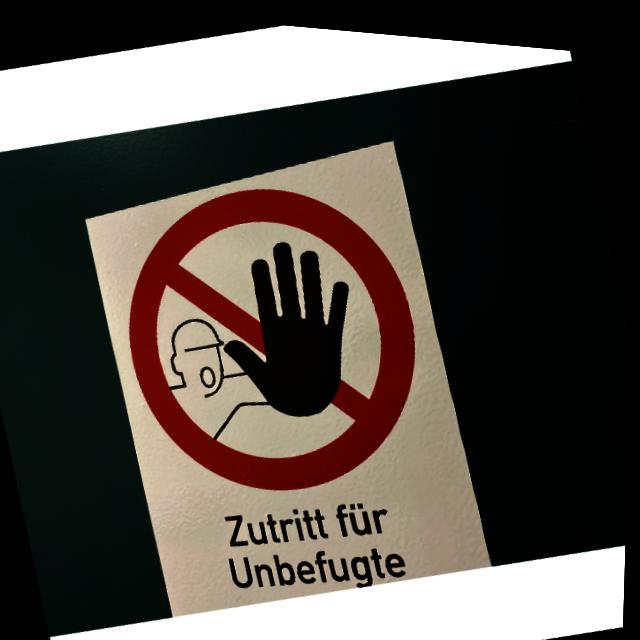No access for unauthorized persons: (94, 142, 452, 526)
